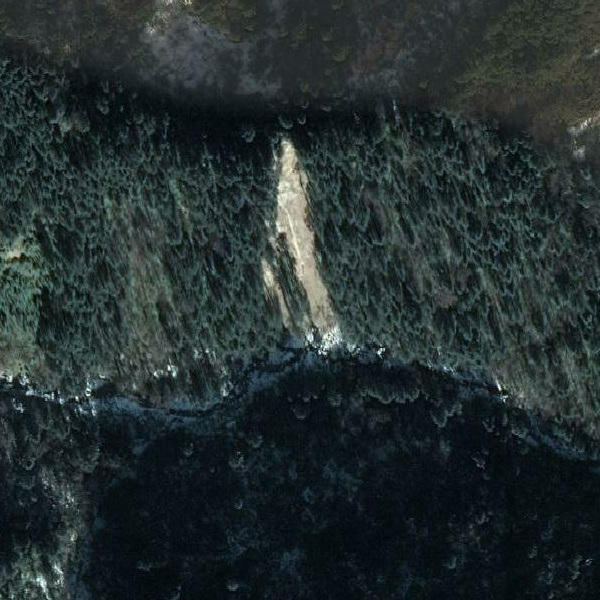slope: (256, 134, 346, 357)
